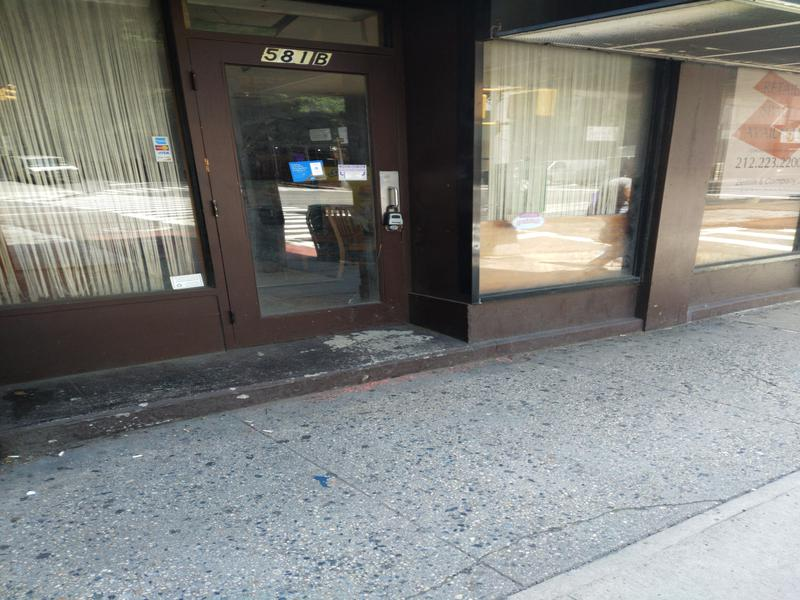door: (185, 29, 447, 348)
